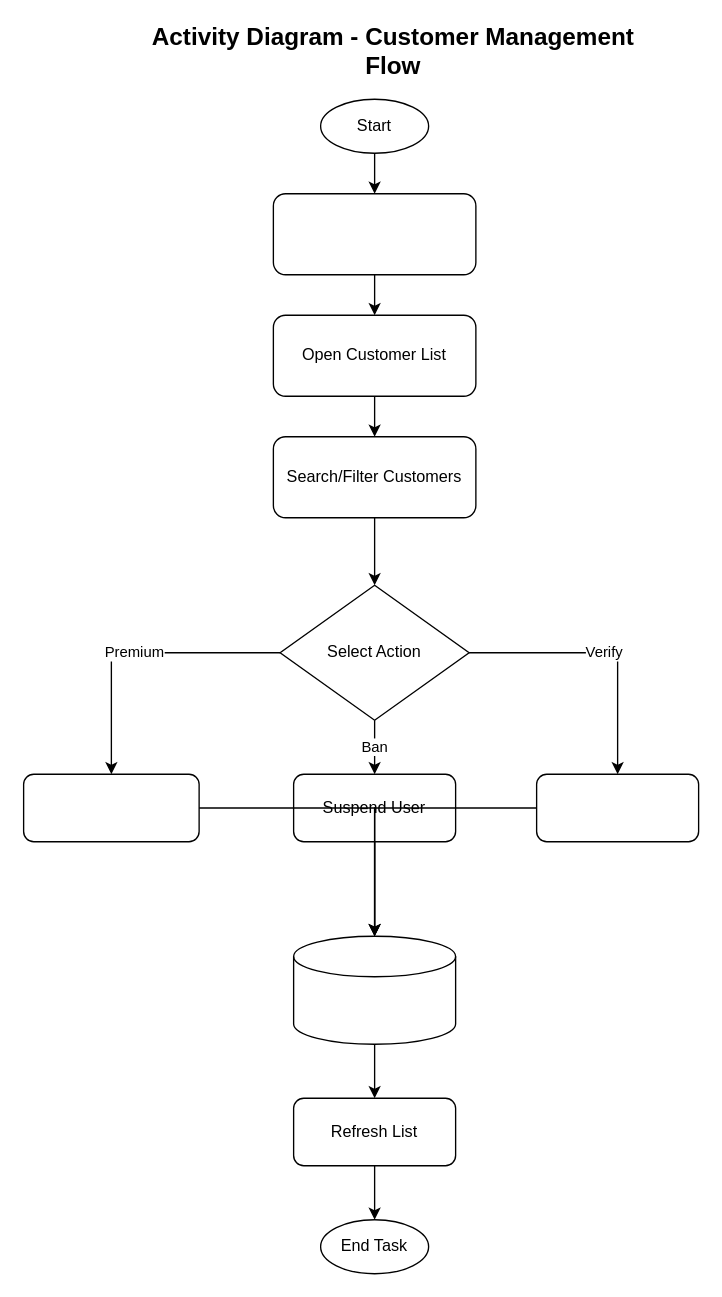
Some shapes in this 722 by 1297 pixel diagram are drawn without their labels. Here are the shapes that lost their labels. From the top down, the box of each, then its label:
(272, 192, 476, 275): Login as Manager
(22, 773, 199, 842): Upgrade to Premium
(535, 773, 699, 842): Manually Verify
(292, 935, 456, 1044): Update Database
